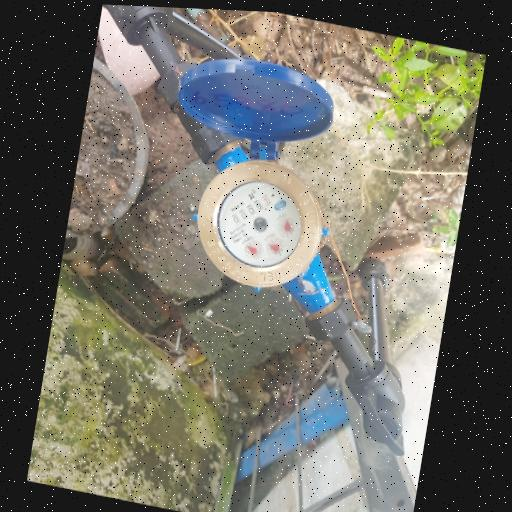0: (243, 202, 257, 217), (229, 211, 239, 226), (237, 211, 250, 222)
1: (259, 191, 274, 207)
9: (250, 197, 265, 213)
border_water_meter_number: (226, 185, 274, 233)
